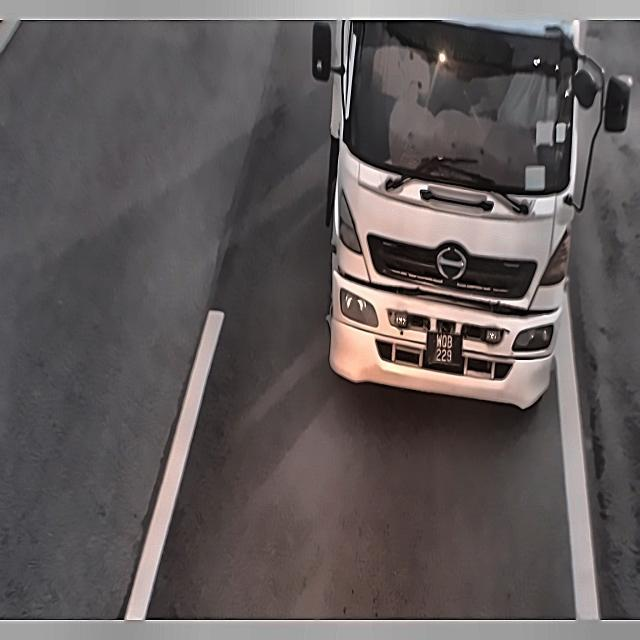car: (424, 328, 468, 374)
